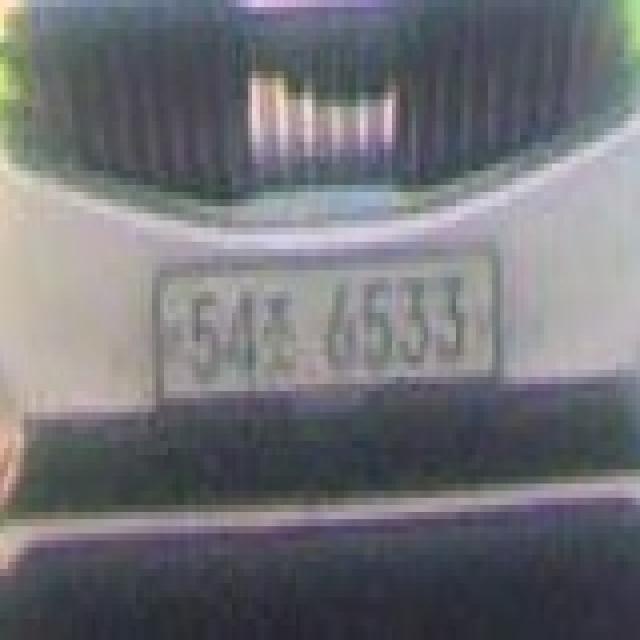3: (392, 270, 432, 391), (436, 263, 472, 377)
4: (220, 270, 260, 398)
5: (188, 263, 216, 398), (360, 277, 388, 384)
6: (316, 270, 352, 391)
jo: (252, 263, 308, 384)
license_plate: (148, 220, 508, 427)
